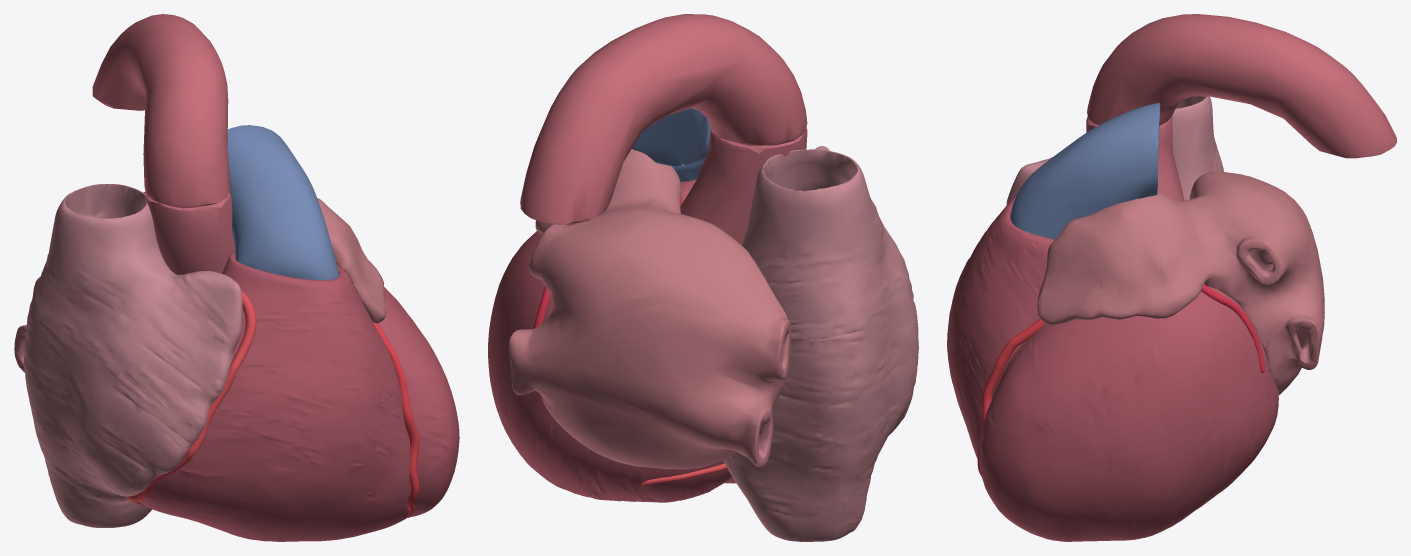
File: heart.glb
3 renders of one model, left to right at view 1: azimuth 30°, elevation 25°; view 2: azimuth 150°, elevation 25°; view 3: azimuth 270°, elevation 25°, orthographic. The views are drawn at different scales.
Parts seen in each view (by area): view 1: ventricle, right-atrium, aortic-arch, pulmonary, aorta, left-atrium, rca, lad; view 2: left-atrium, right-atrium, aortic-arch, ventricle, aorta, pulmonary, rca; view 3: ventricle, left-atrium, aortic-arch, pulmonary, right-atrium, aorta, lad, lcx.
Boxes of the visible parts, x1,y1,x2,y2 form: ventricle: (135, 252, 459, 541); right-atrium: (24, 184, 242, 527); aortic-arch: (92, 14, 230, 208); pulmonary: (227, 125, 339, 280); aorta: (145, 191, 234, 274); left-atrium: (14, 191, 386, 372); rca: (126, 290, 256, 506); lad: (373, 322, 419, 517); left-atrium: (508, 149, 791, 469); right-atrium: (723, 146, 918, 541); aortic-arch: (520, 14, 807, 224); ventricle: (488, 179, 735, 502); aorta: (680, 127, 807, 245); pulmonary: (632, 108, 711, 181); rca: (641, 463, 727, 486); ventricle: (947, 196, 1278, 541); left-atrium: (1037, 171, 1324, 395); aortic-arch: (1087, 14, 1396, 158); pulmonary: (1010, 103, 1160, 239); right-atrium: (1006, 96, 1223, 204); aorta: (1086, 116, 1184, 201); lad: (977, 318, 1045, 476); lcx: (1201, 284, 1264, 372).
Bounding box in the file's own units: 2.89 × 3.57 × 3.17.
